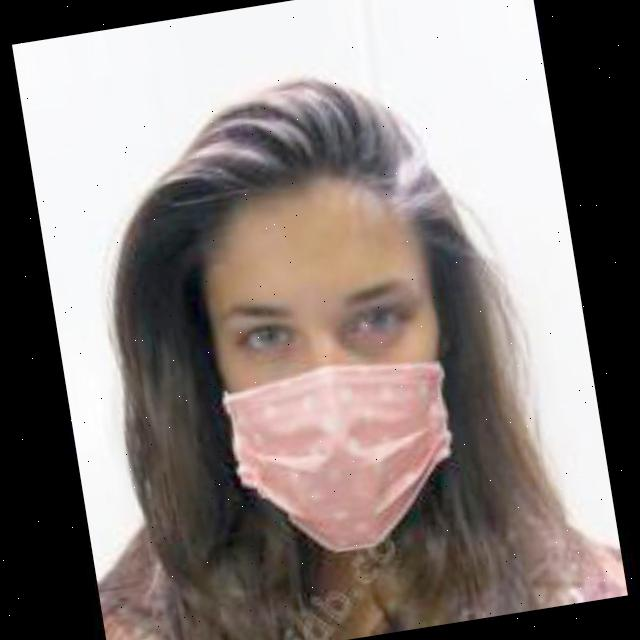suspicion: (145, 136, 508, 586)
